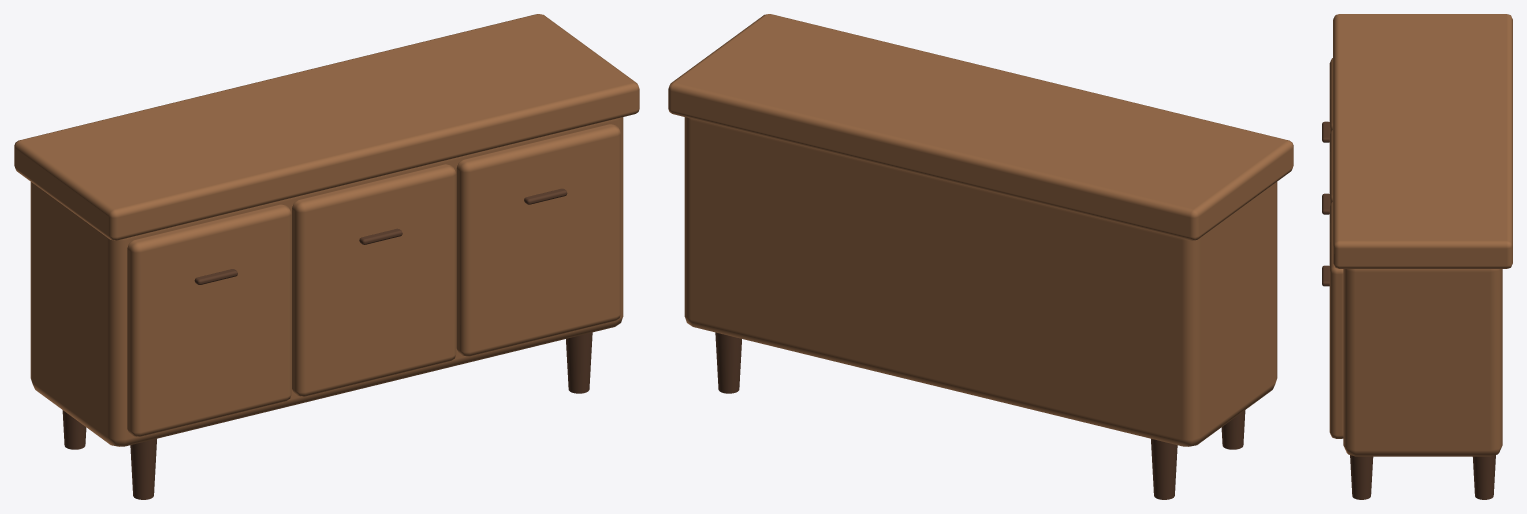
File: pera-console.v1.web.glb
3 renders of one model, left to right at view 1: azimuth 30°, elevation 25°; view 2: azimuth 150°, elevation 25°; view 3: azimuth 270°, elevation 25°, orthographic. The views are drawn at different scales.
Size of the model in its own units: 1.34 by 0.738 by 0.467.
